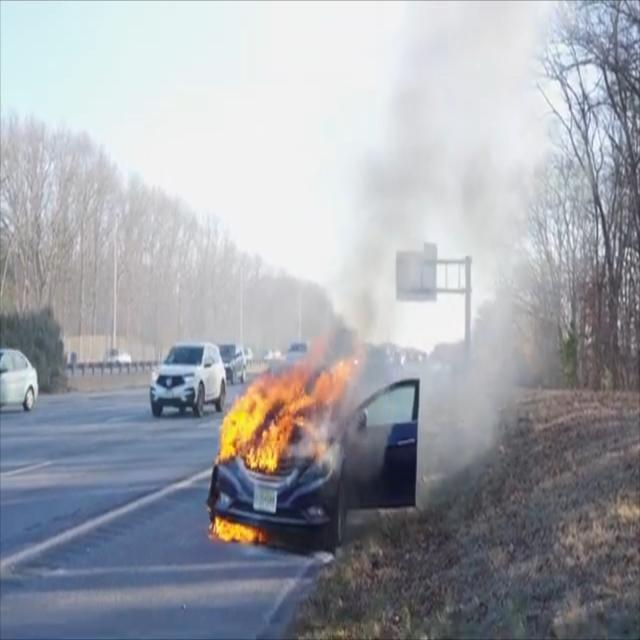fire: (204, 317, 365, 555)
